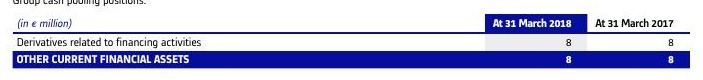table: (0, 0, 703, 80)
